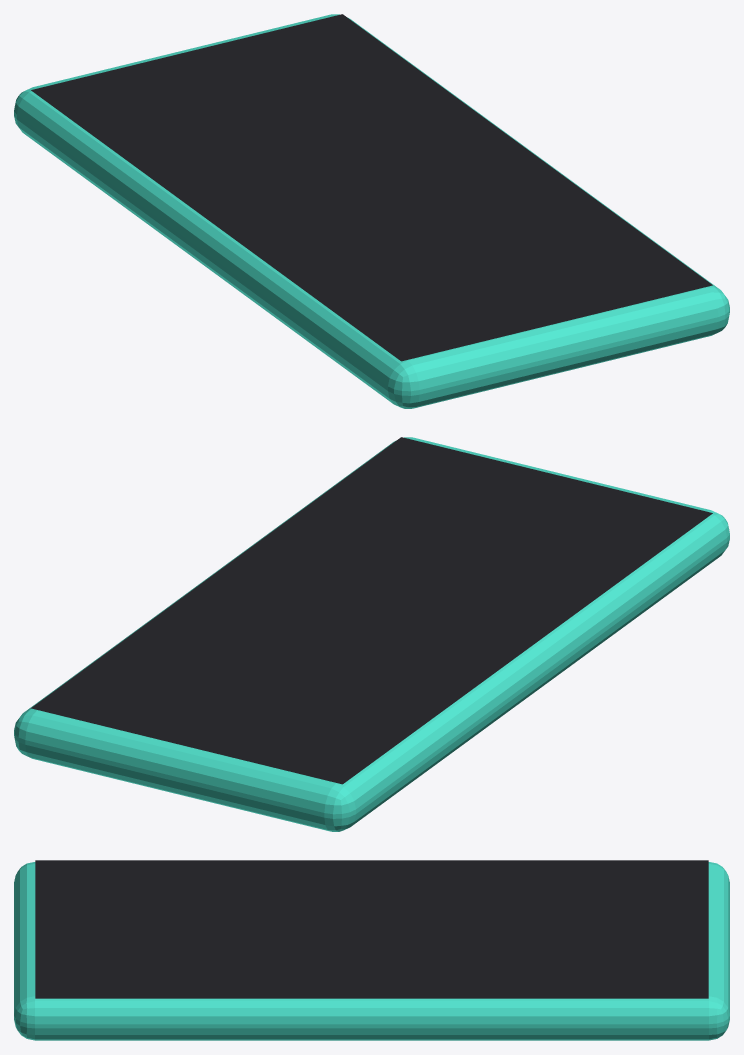
The model's file is oppo-a-model-356-mid-range-2025.glb.
3 views of the same model, one above another, from view 1: azimuth 30°, elevation 25°; view 2: azimuth 150°, elevation 25°; view 3: azimuth 270°, elevation 25° (orthographic). The views are drawn at different scales.
Visible parts, largest first — view 1: Phone_Screen, Phone_Body; view 2: Phone_Screen, Phone_Body; view 3: Phone_Screen, Phone_Body.
Boxes of the visible parts, x1,y1,x2,y2 form: Phone_Screen: [31, 14, 712, 361]; Phone_Body: [14, 14, 729, 408]; Phone_Screen: [31, 437, 712, 784]; Phone_Body: [14, 437, 729, 831]; Phone_Screen: [35, 860, 708, 998]; Phone_Body: [14, 862, 729, 1040].
Size of the model in its own units: 0.0723 by 0.0096 by 0.1456.
